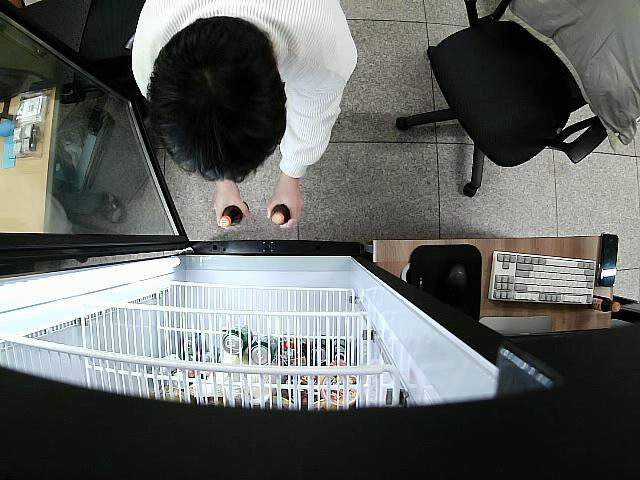17_vita500: (220, 204, 244, 228), (270, 205, 292, 226)
